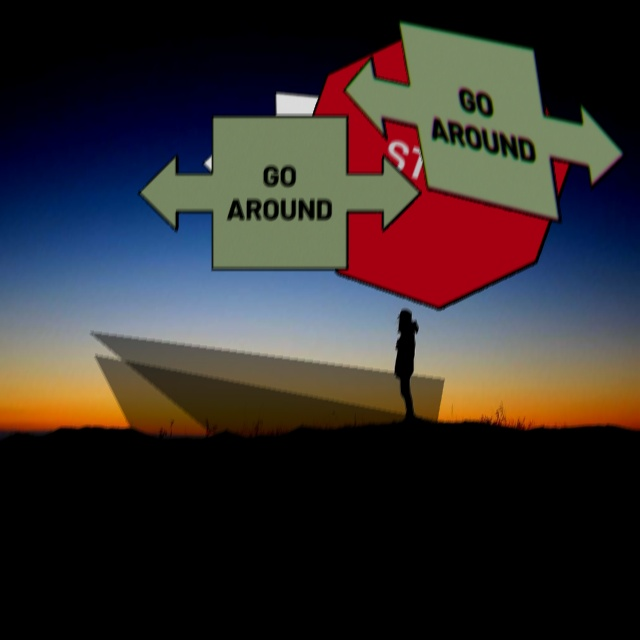DO_NOT_GO_AROUND: (203, 91, 487, 257)
GO_AROUND: (344, 19, 628, 223), (139, 115, 423, 270)
STOP: (291, 26, 575, 310)
